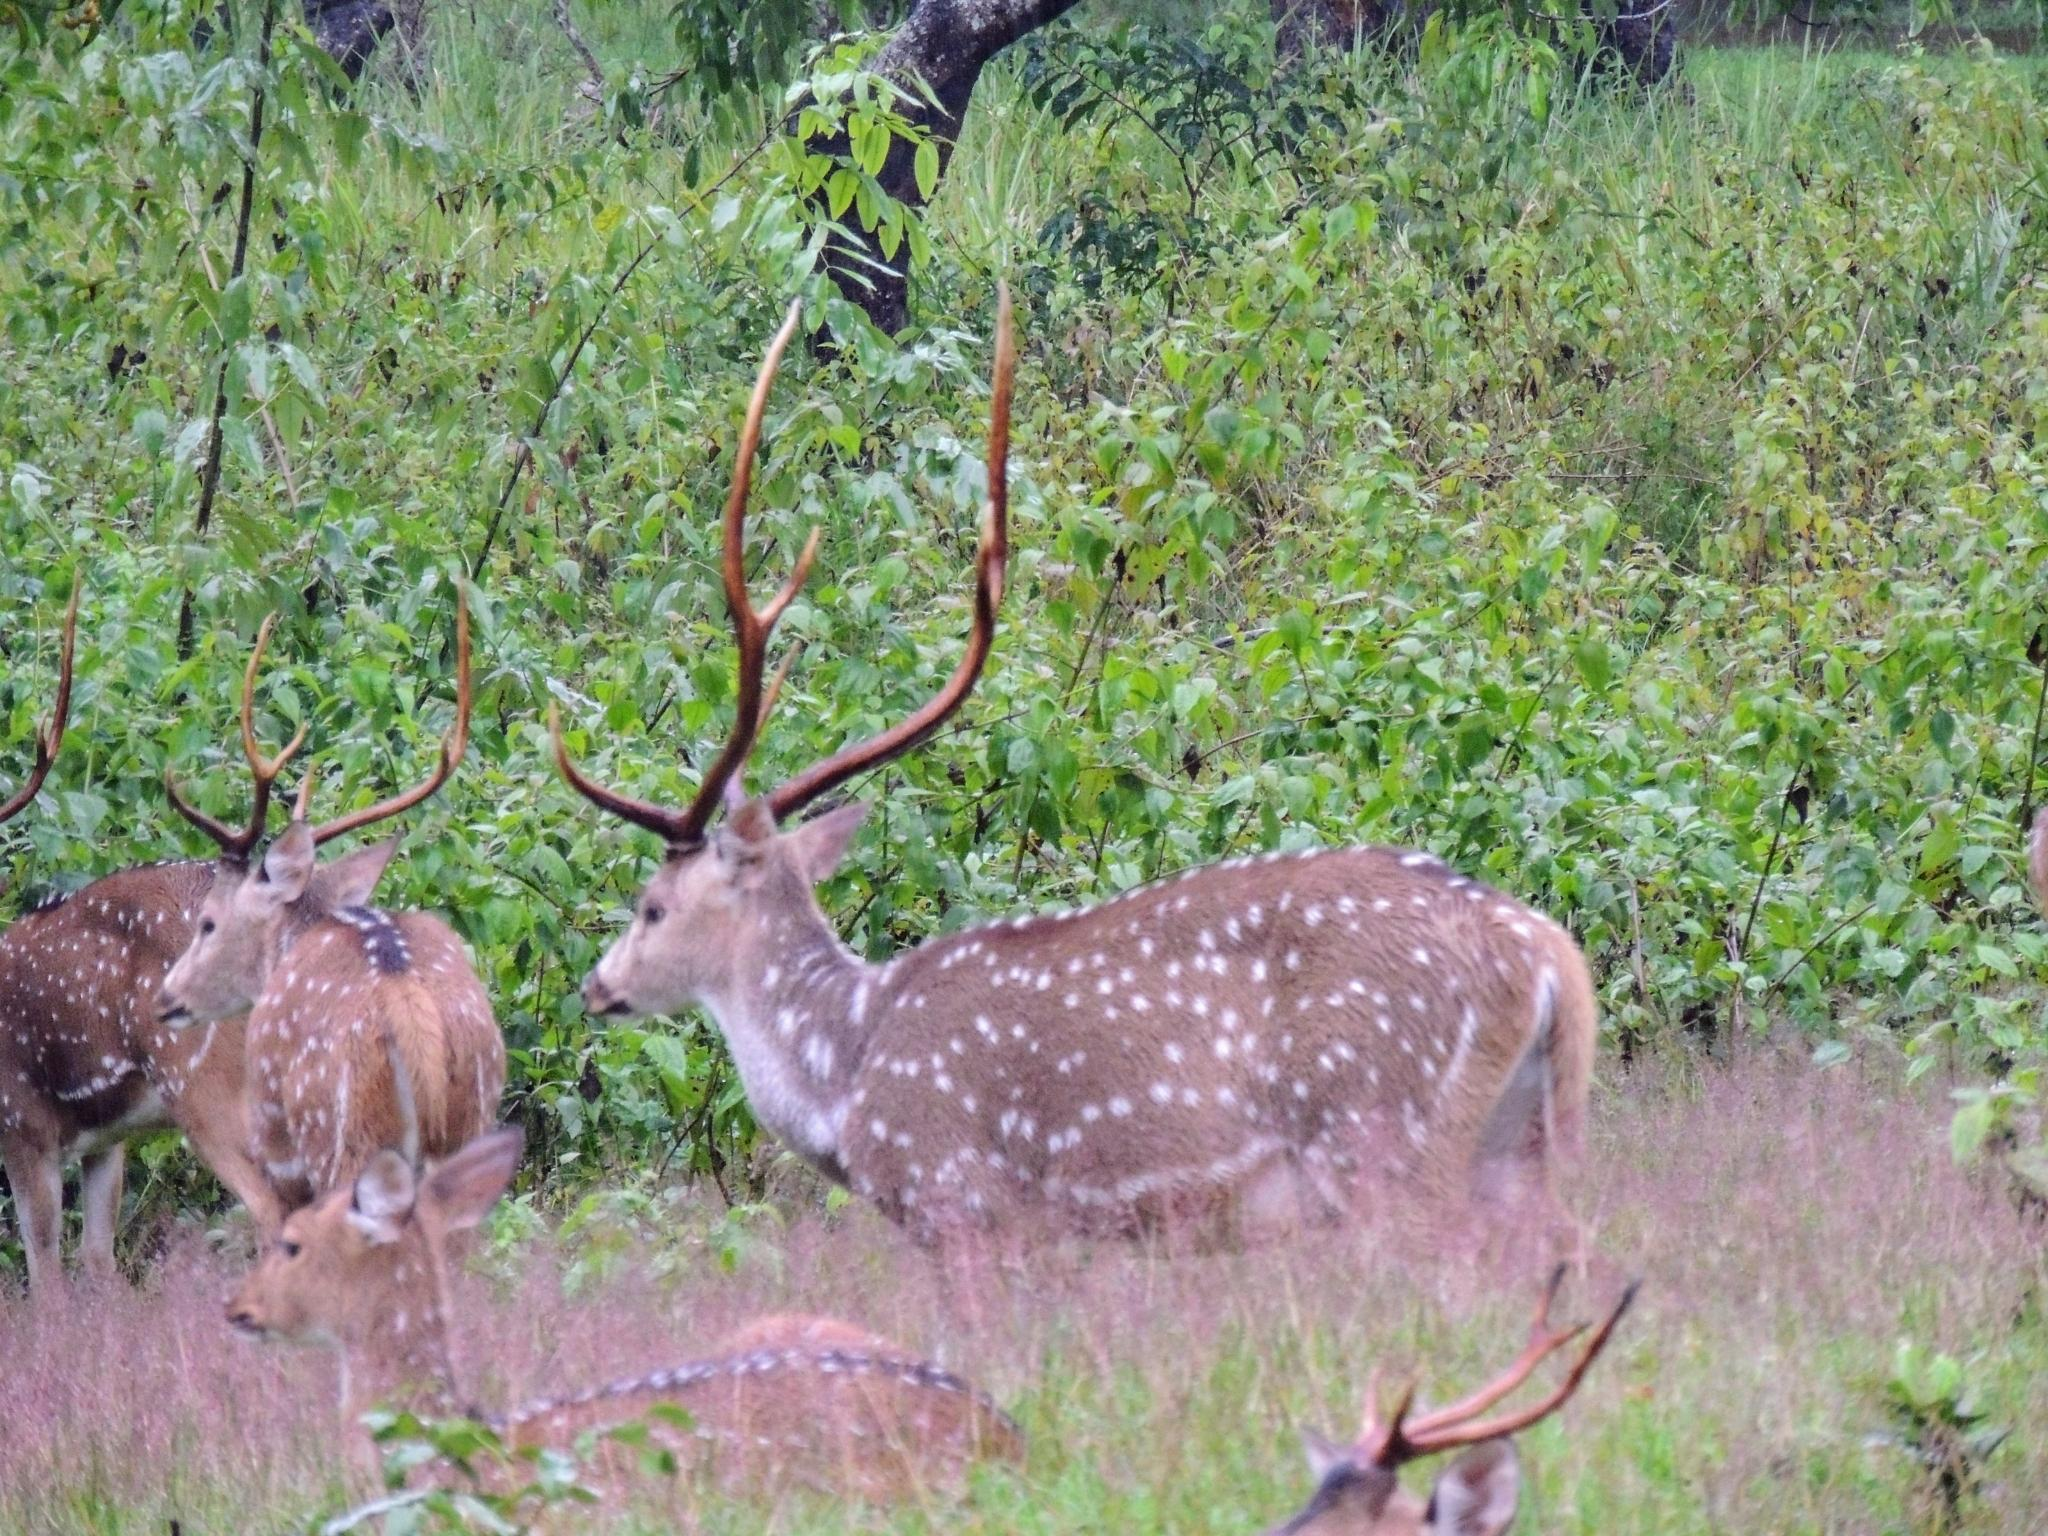Deer: (548, 287, 1593, 1246), (161, 821, 505, 1217), (0, 862, 285, 1292), (1268, 1262, 1638, 1534), (227, 1129, 522, 1425)
